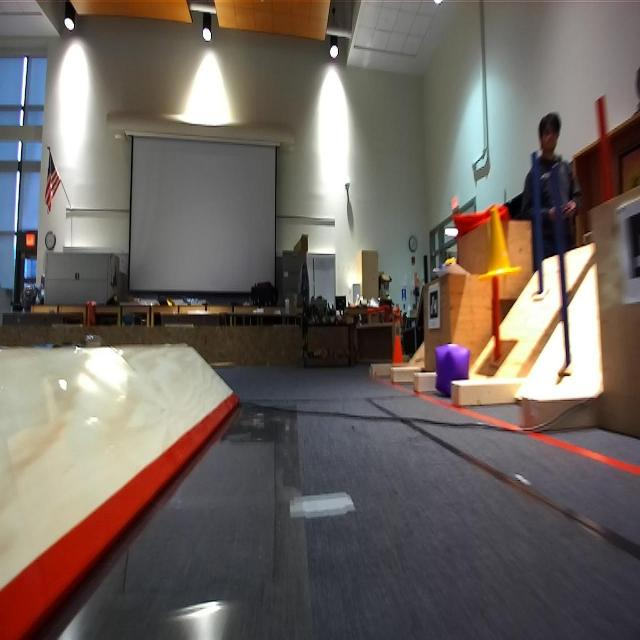frc_cone: (481, 207, 517, 282)
frc_cube: (434, 344, 468, 397)
